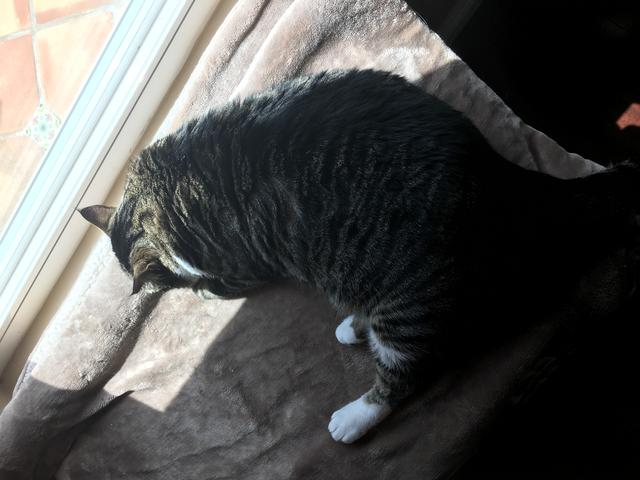playdoh: (75, 63, 549, 442)
